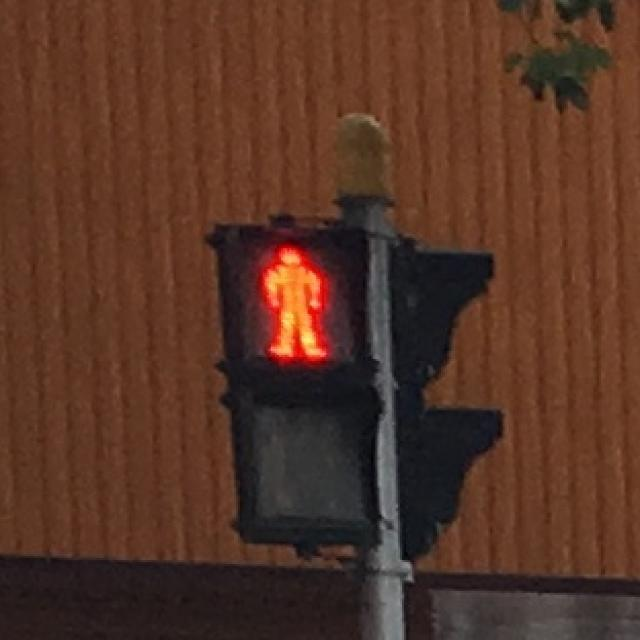red-crossing: (242, 230, 347, 372)
